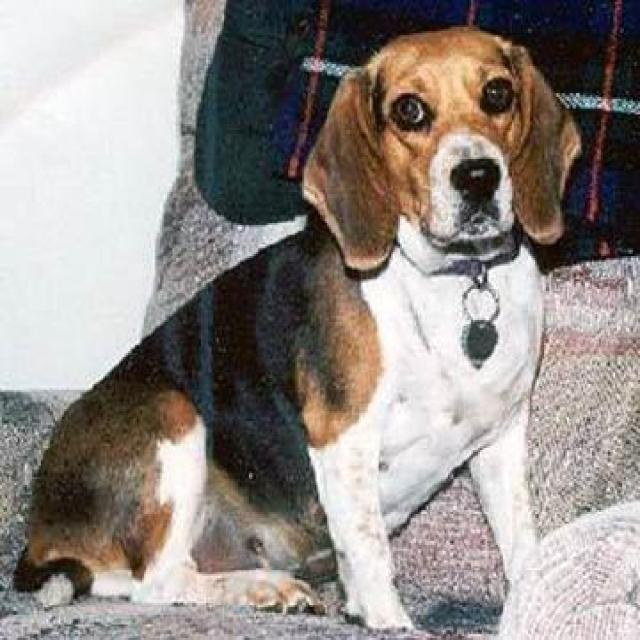beagle: (11, 23, 583, 638)
